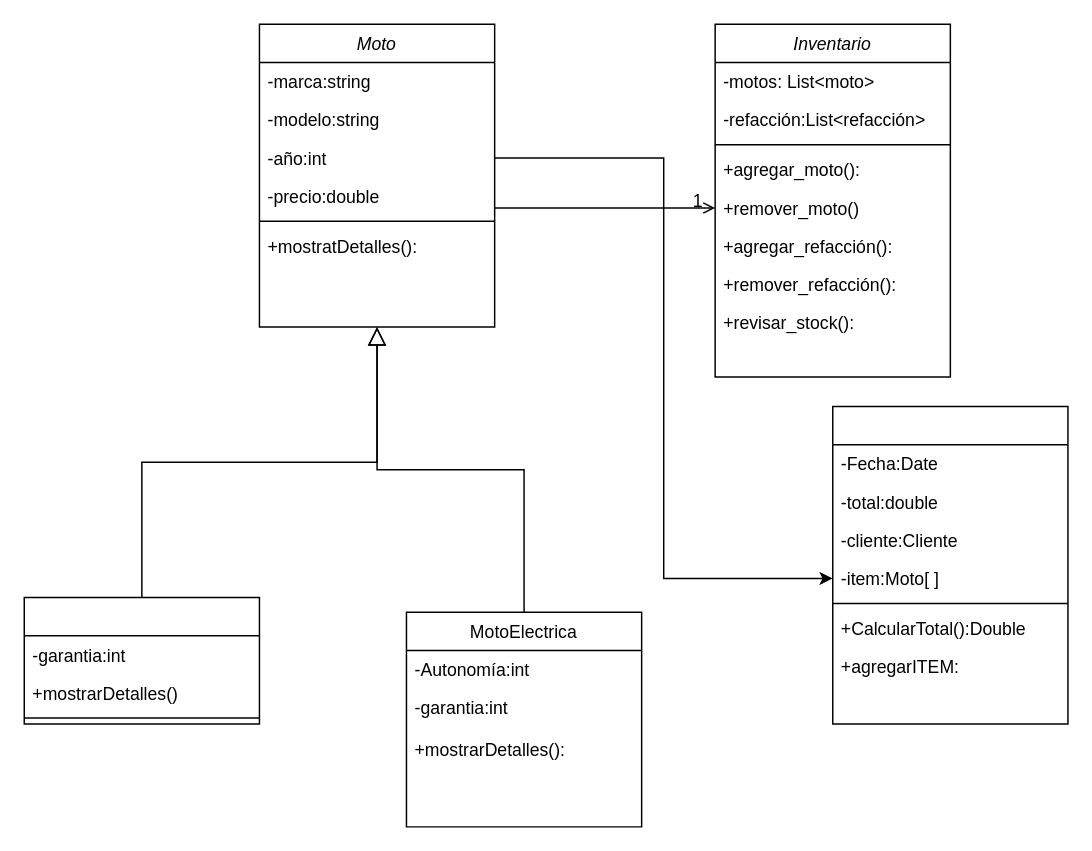
The diagram is 1092 pixels wide and 851 high, and some of its shapes have lost their labels. The shapes that lost their labels are listed below. From the top down, each one's box as (x1, y1, x2, y2) in pixels, then its label:
(831, 405, 1068, 724): Compra
(23, 596, 259, 724): MotoNueva
